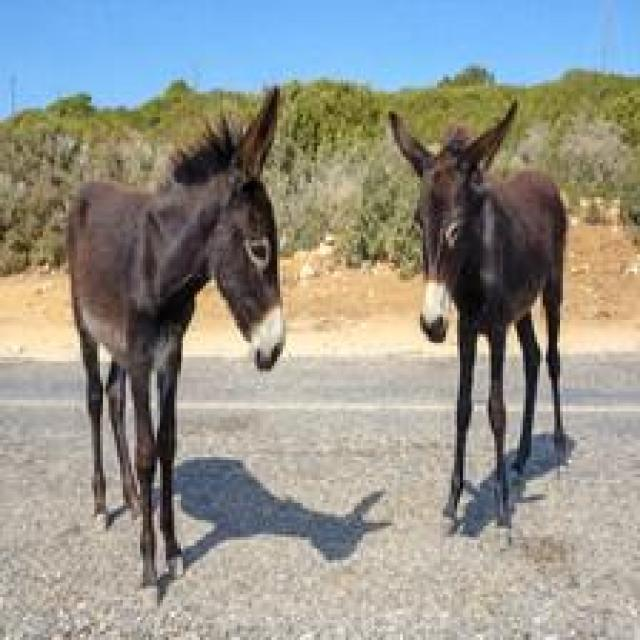Donkey: (63, 83, 286, 588), (386, 97, 568, 549)
